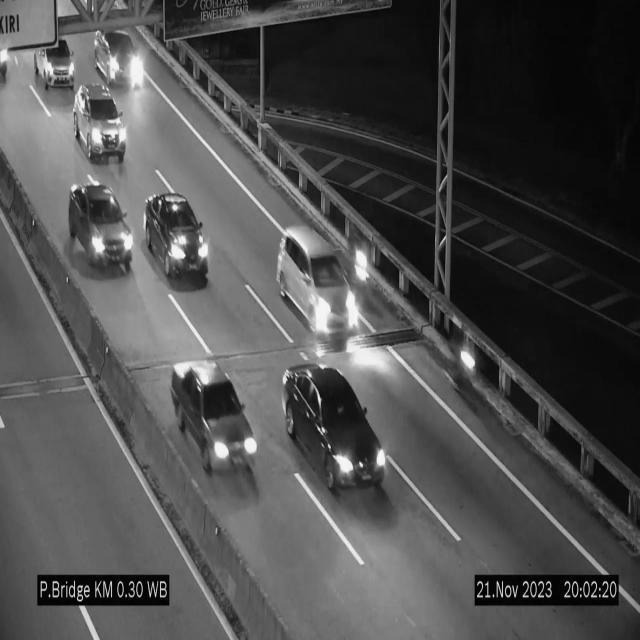Car: (278, 358, 392, 502), (175, 357, 264, 483), (276, 228, 360, 335), (144, 190, 208, 286), (69, 183, 133, 274), (74, 83, 126, 162), (97, 22, 145, 86), (33, 32, 79, 86)
Motorcycle: (457, 329, 484, 416), (353, 229, 371, 305)
